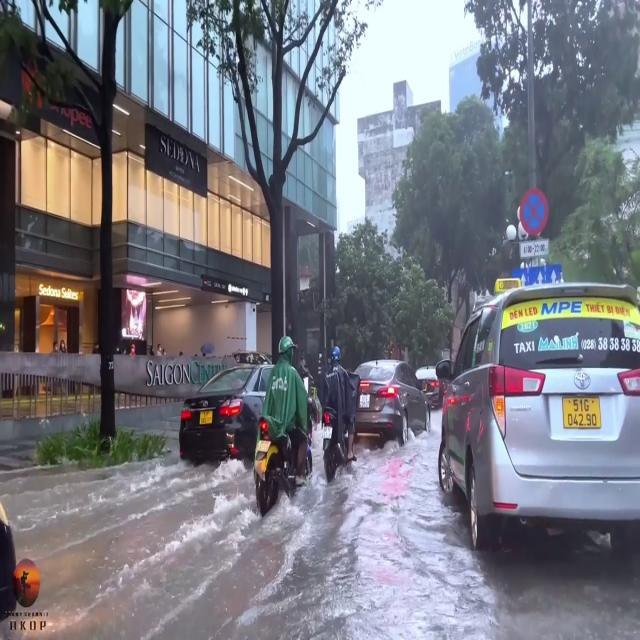bien_vang: (562, 397, 601, 429), (197, 408, 213, 424)
